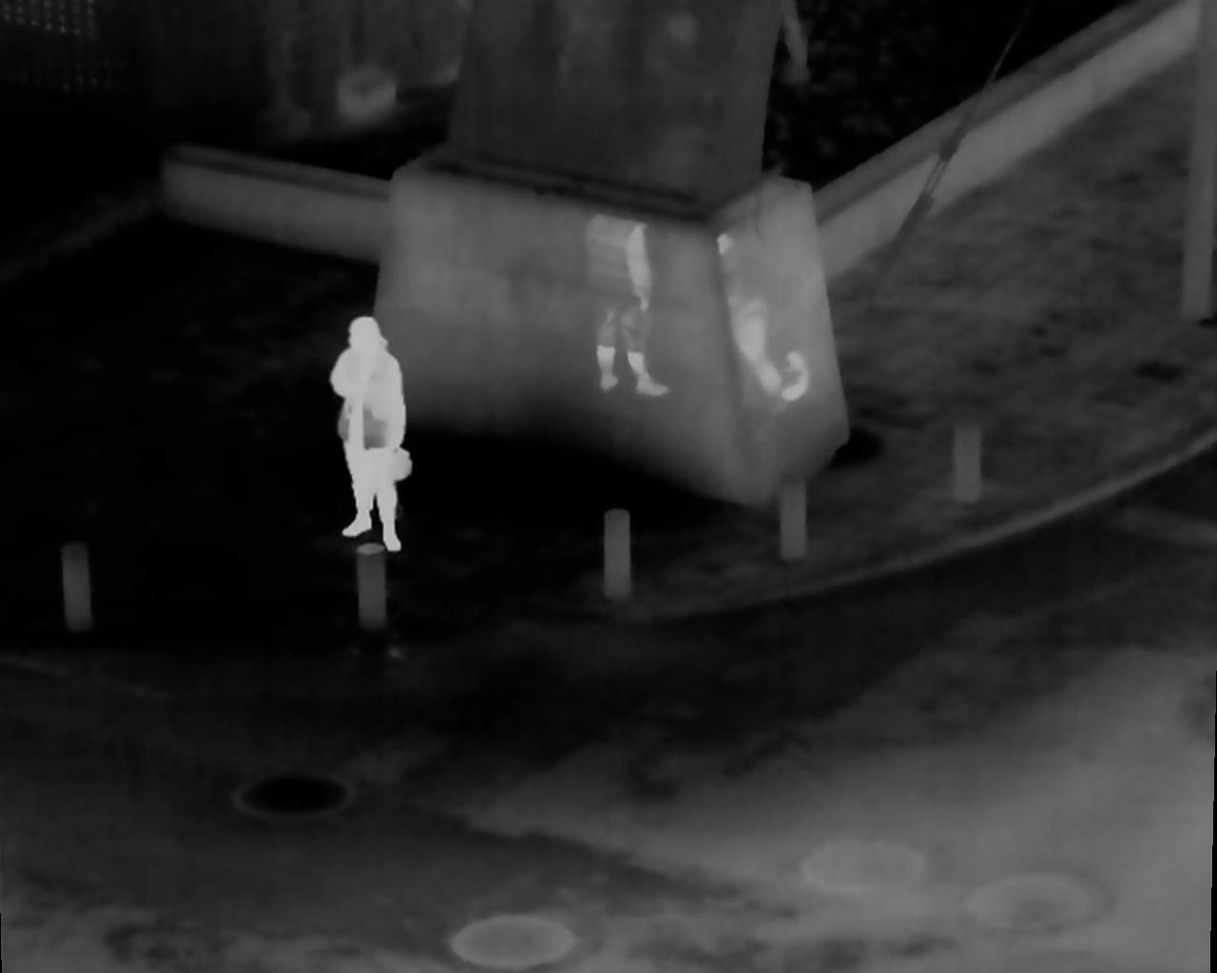person: (334, 316, 415, 550)
